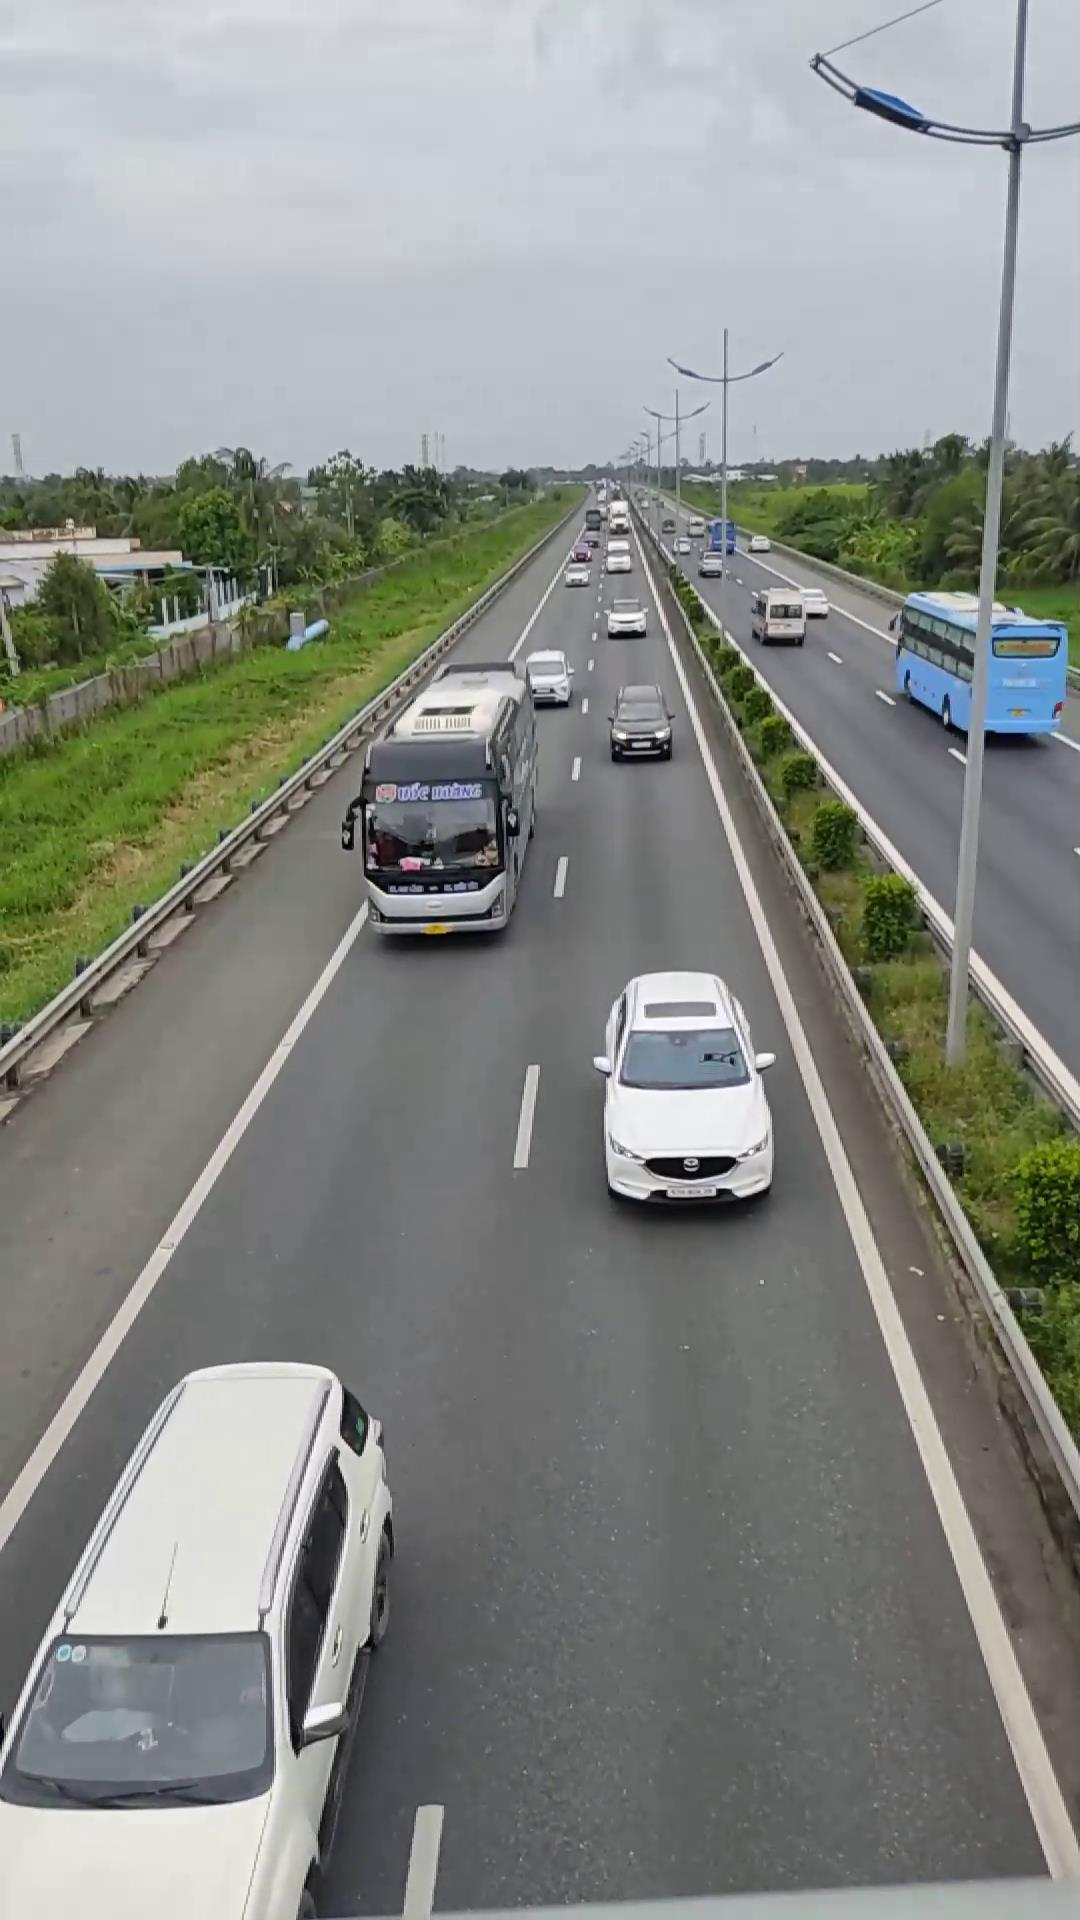bus: (348, 663, 540, 940)
car: (0, 1356, 399, 1918), (592, 969, 780, 1210), (605, 685, 676, 760)
